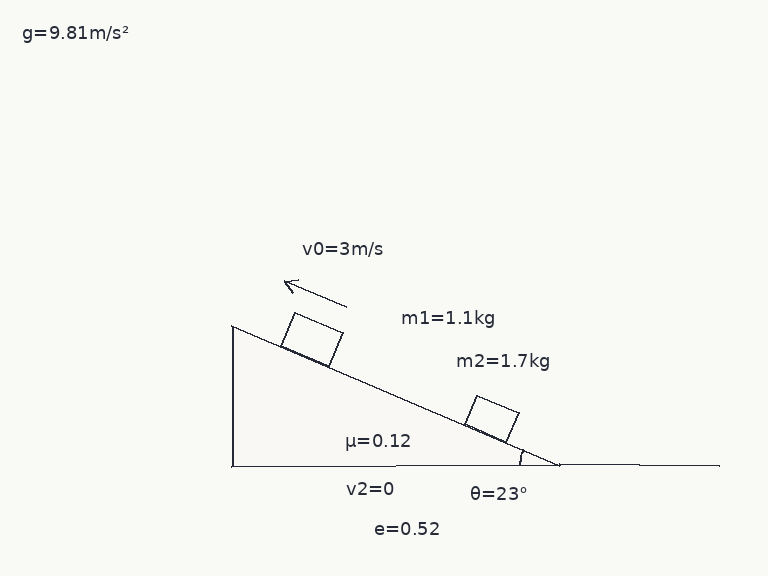block: (279, 310, 344, 368), (462, 393, 520, 444)
ramp: (229, 324, 562, 467)
